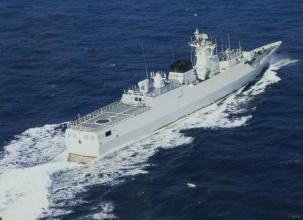warship: (58, 28, 288, 164)
